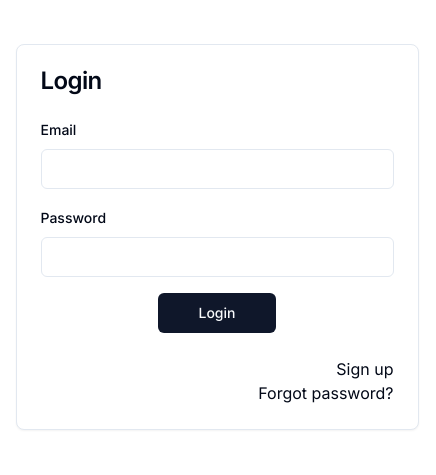
Test: Login Page › Displays a generic error message when the server is down
// Simulate user input
Type "test@example.com" into the field labelled "Email" at (217, 169), box x1=40 y1=149 x2=394 y2=189
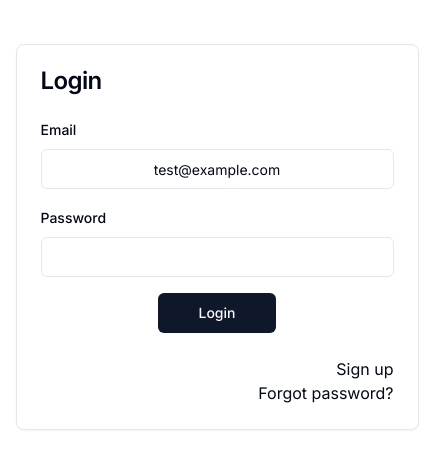
Type "password123" into the password field labelled "Password" at (217, 257), box x1=40 y1=237 x2=394 y2=277
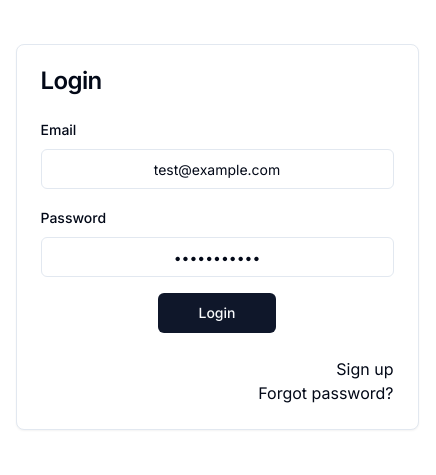
// Submit the form
Click the button "Login" at (217, 313), box x1=158 y1=293 x2=276 y2=333
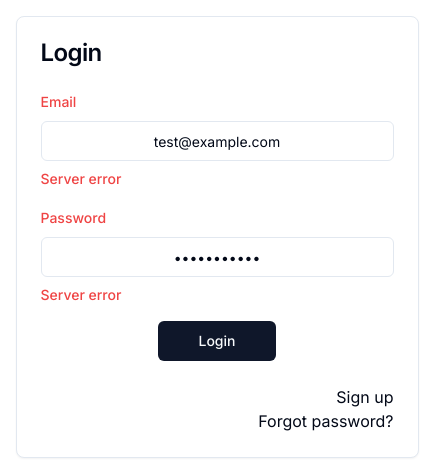
Check: the text "Server error" is shown 2 times, box x1=40 y1=170 x2=121 y2=187; x1=40 y1=286 x2=121 y2=303
